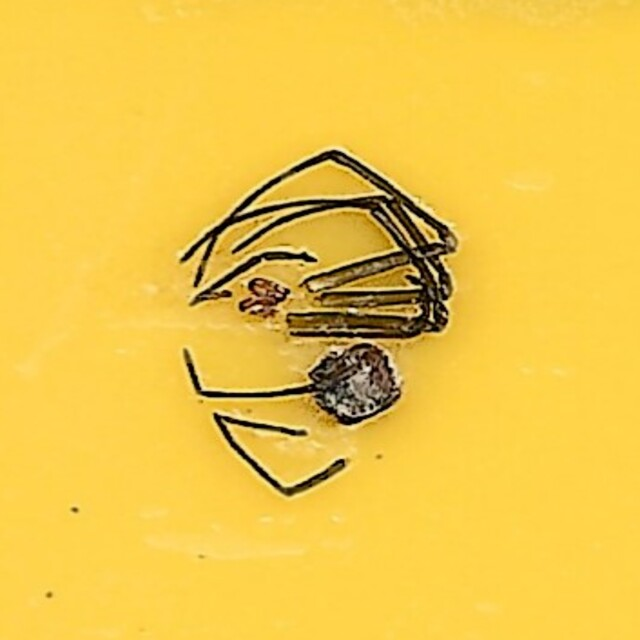Araneae: (181, 147, 459, 493)
